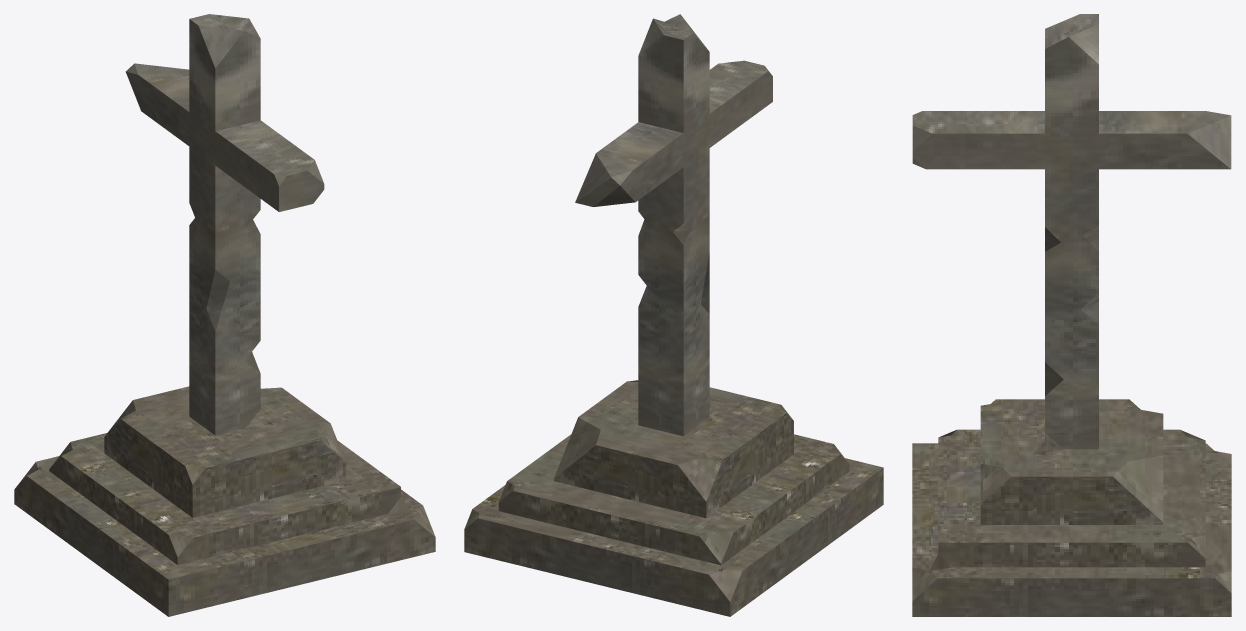
File: Tumba2_rota.glb
3 renders of one model, left to right at view 1: azimuth 30°, elevation 25°; view 2: azimuth 150°, elevation 25°; view 3: azimuth 270°, elevation 25°, orthographic. The views are drawn at different scales.
Visible parts, largest first — view 1: Lapida_2_rota; view 2: Lapida_2_rota; view 3: Lapida_2_rota.
Boxes of the visible parts, <box> form: Lapida_2_rota: <box>14,14,435,616</box>; Lapida_2_rota: <box>464,14,883,616</box>; Lapida_2_rota: <box>912,14,1231,616</box>.
Size of the model in its own units: 1.5 by 2.72 by 1.5.
2 materials, 2 textured.
